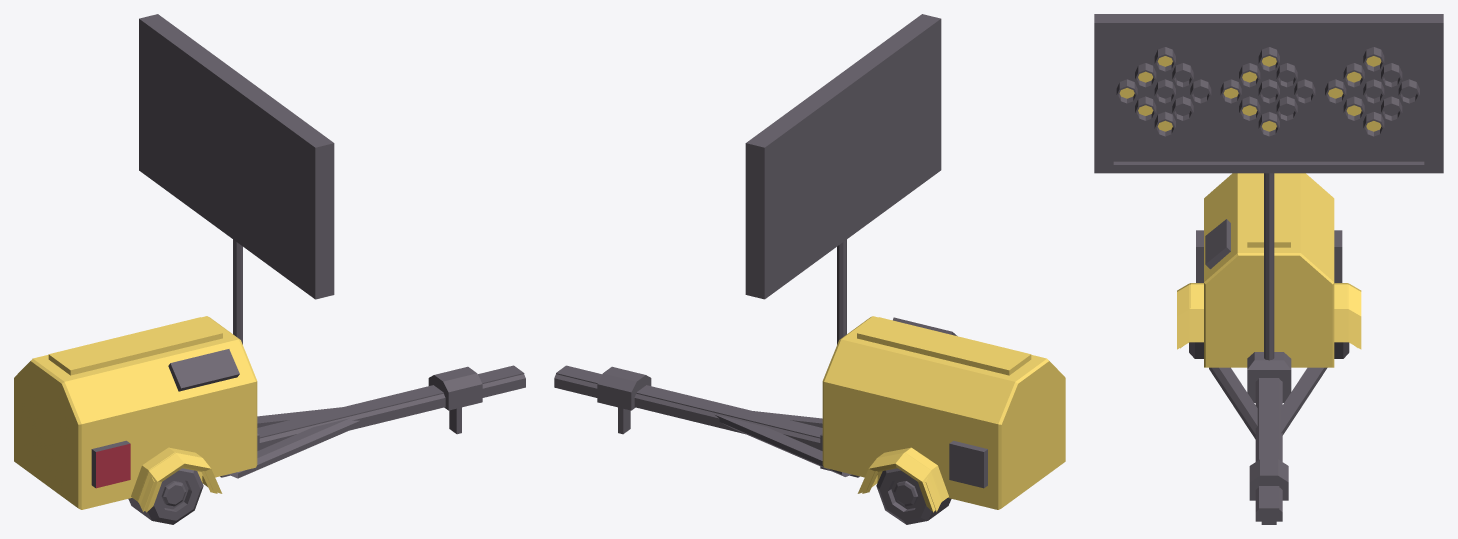
File: Road_Left.fbx
The picture shows the model from 3 angles, left to right: view 1: azimuth 30°, elevation 25°; view 2: azimuth 150°, elevation 25°; view 3: azimuth 270°, elevation 25°; orthographic projection.
Parts seen in each view (by area): view 1: Cube, Cube.004, Cylinder, Cube.001, Cylinder.001; view 2: Cube, Cube.004, Cylinder, Cube.001, Cylinder.001; view 3: Cube.004, Cube, Cylinder.021, Cylinder, Cylinder.001, Cube.001.
Boxes of the visible parts, bbox=[...] form: Cube: bbox=[14, 316, 525, 512]; Cube.004: bbox=[139, 14, 334, 299]; Cylinder: bbox=[128, 366, 482, 524]; Cube.001: bbox=[91, 349, 239, 488]; Cylinder.001: bbox=[233, 239, 242, 344]; Cube: bbox=[554, 316, 1065, 512]; Cube.004: bbox=[745, 14, 941, 299]; Cylinder: bbox=[597, 366, 951, 524]; Cube.001: bbox=[893, 317, 987, 488]; Cylinder.001: bbox=[837, 239, 846, 344]; Cube.004: bbox=[1094, 14, 1443, 173]; Cube: bbox=[1177, 173, 1361, 521]; Cylinder.021: bbox=[1116, 47, 1419, 138]; Cylinder: bbox=[1189, 342, 1349, 524]; Cylinder.001: bbox=[1264, 173, 1274, 360]; Cube.001: bbox=[1196, 219, 1342, 282].
Bounding box in the file's own units: 240 × 196 × 155.
